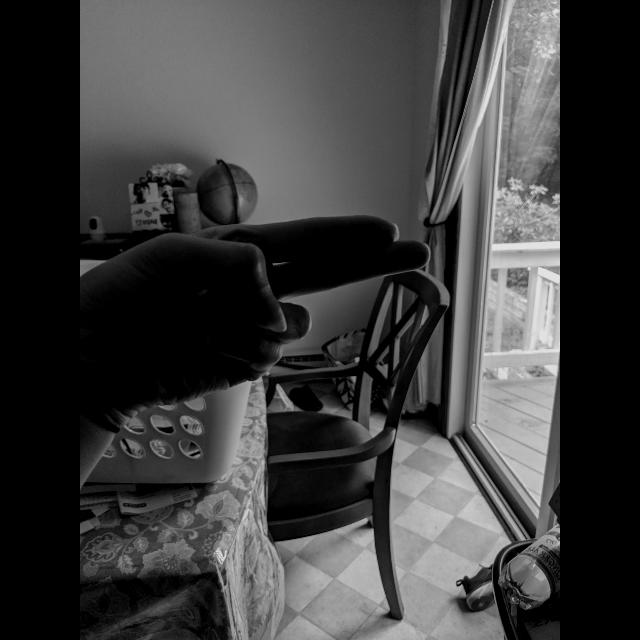H: (80, 207, 438, 415)
